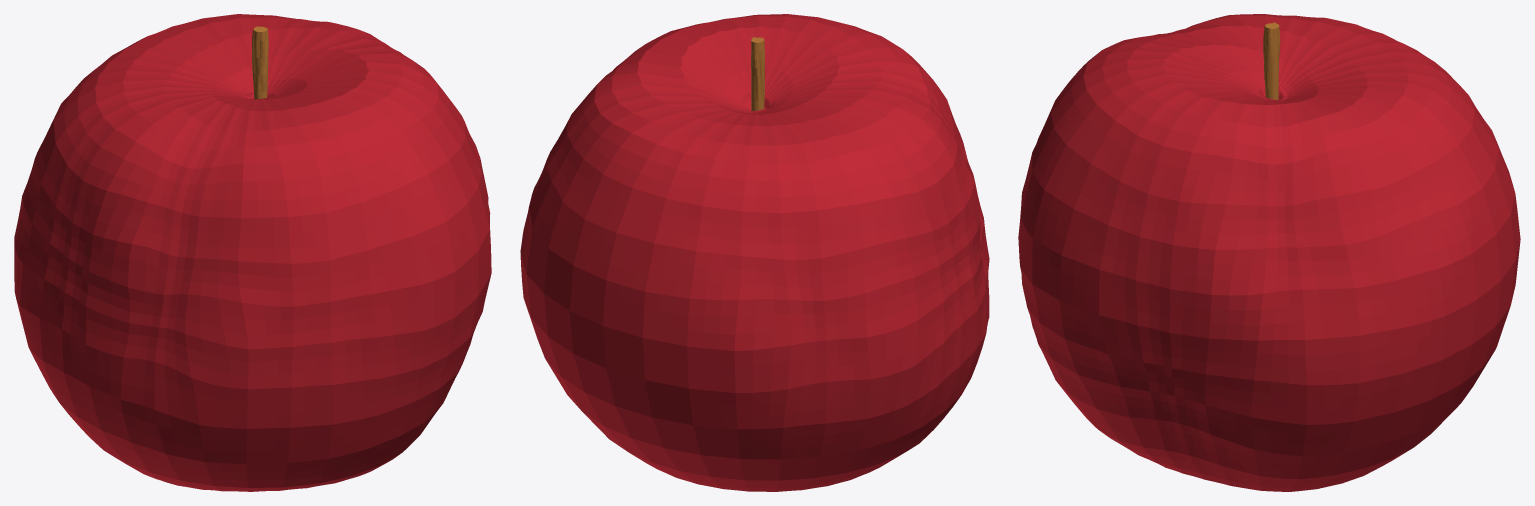
File: Apple.fbx
The picture shows the model from 3 angles, left to right: view 1: azimuth 30°, elevation 25°; view 2: azimuth 150°, elevation 25°; view 3: azimuth 270°, elevation 25°; orthographic projection. The views are drawn at different scales.
Parts seen in each view (by area): view 1: apple, applePart1; view 2: apple, applePart1; view 3: apple, applePart1.
Part boxes in pixels (box(x1,y1,x2,y2)): apple: box(14, 14, 491, 491); applePart1: box(252, 26, 268, 99); apple: box(520, 14, 989, 491); applePart1: box(751, 37, 764, 111); apple: box(1018, 14, 1520, 491); applePart1: box(1263, 22, 1280, 99).
Size of the model in its own units: 351 by 340 by 368.
